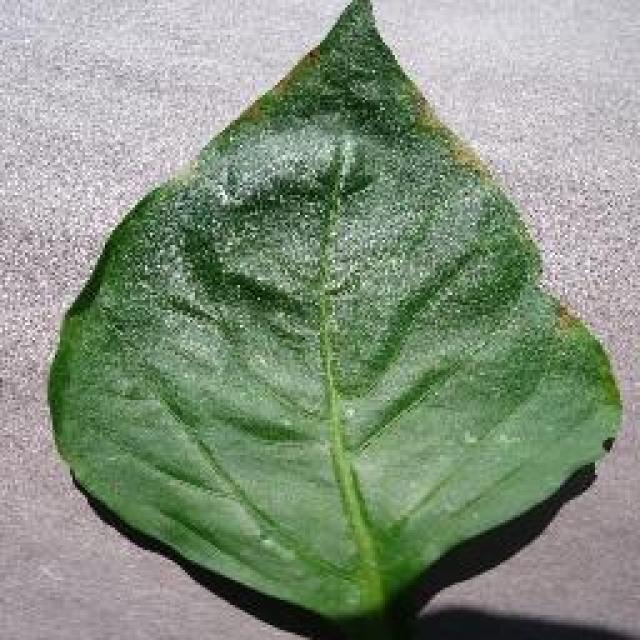Chilli_Healthy: (45, 0, 623, 638)
